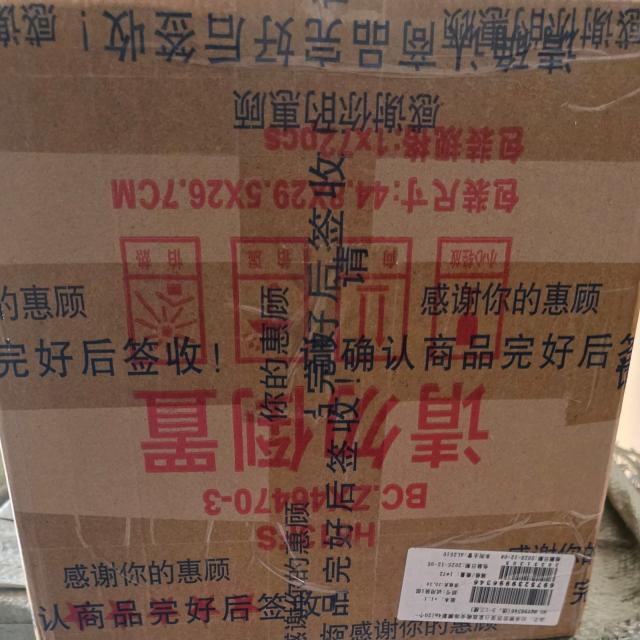carton_box: (1, 2, 640, 640)
export_mark_label: (382, 536, 583, 638)
fragile_label: (430, 222, 516, 380)
keep_dry_label: (228, 231, 320, 373)
protect_from_heat_label: (116, 235, 214, 373)
this_side_up_label: (335, 227, 415, 374)
